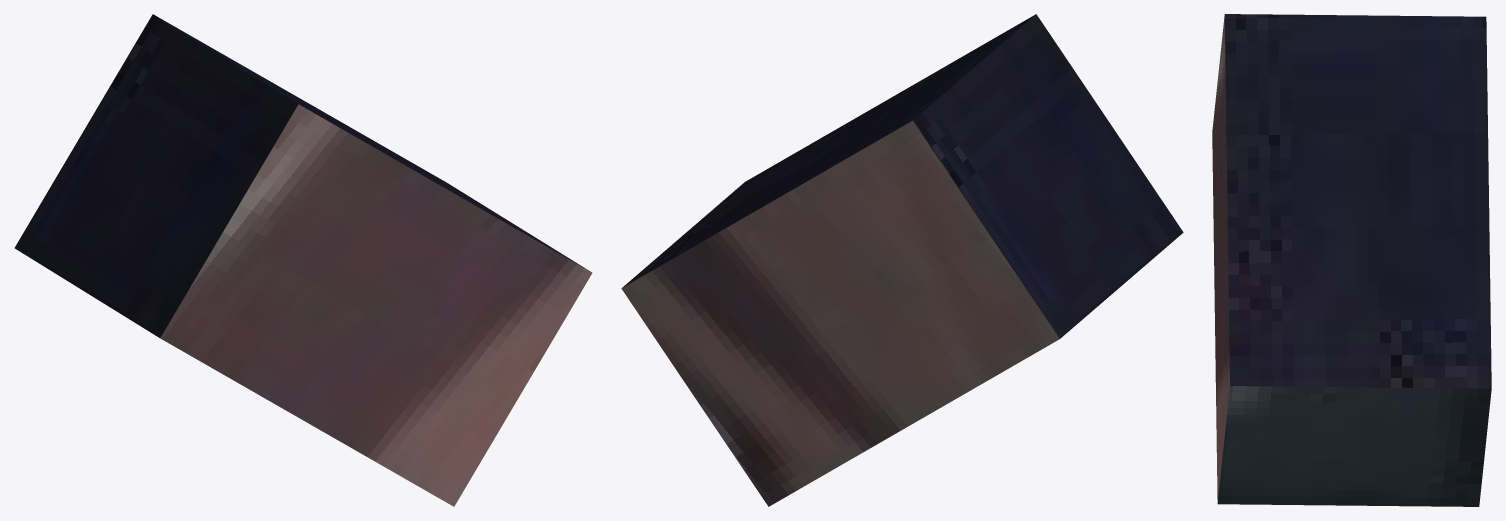
3 views of the same model, side by side, from view 1: azimuth 30°, elevation 25°; view 2: azimuth 150°, elevation 25°; view 3: azimuth 270°, elevation 25° (orthographic). The views are drawn at different scales.
Parts seen in each view (by area): view 1: BAG_0599100010036583; view 2: BAG_0599100010036583; view 3: BAG_0599100010036583.
Part boxes in pixels (x1,y1,x2,y2): BAG_0599100010036583: [14, 14, 592, 506]; BAG_0599100010036583: [621, 14, 1183, 506]; BAG_0599100010036583: [1212, 14, 1491, 506].
Size of the model in its own units: 4.1 by 3.86 by 2.29.
Materials: 2 (1 with a texture image).
